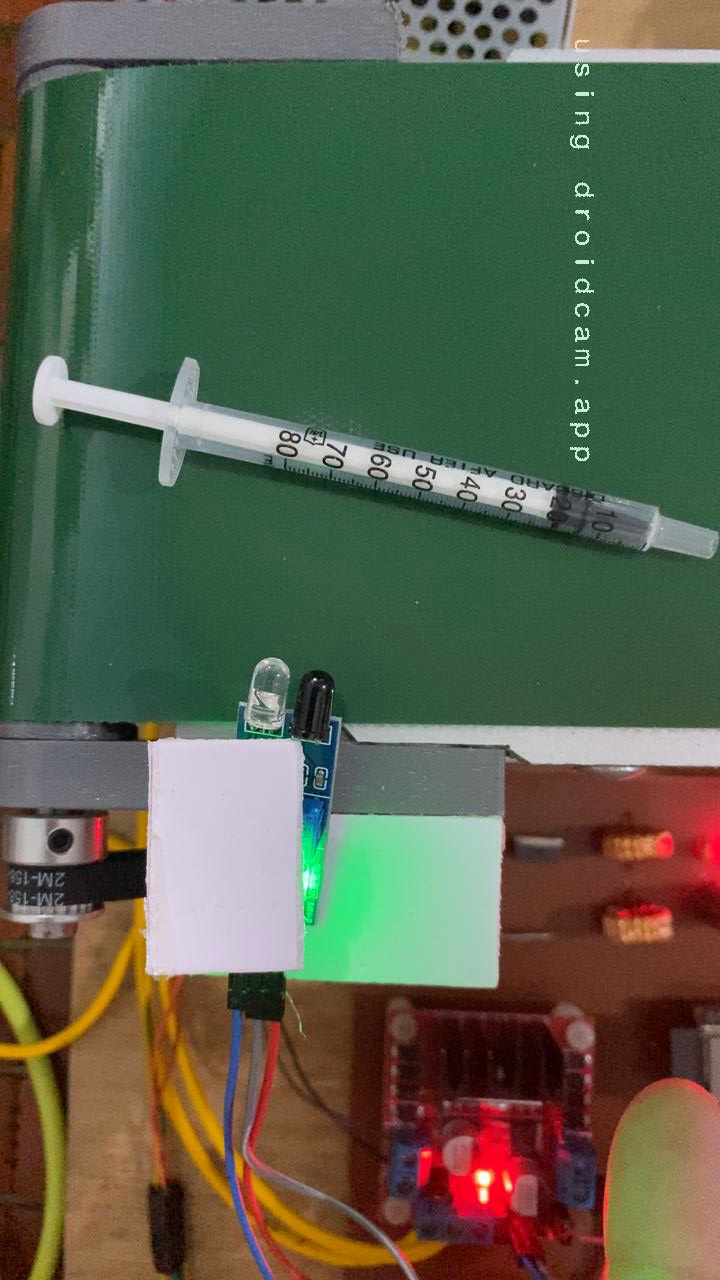syringe: (25, 348, 720, 567)
